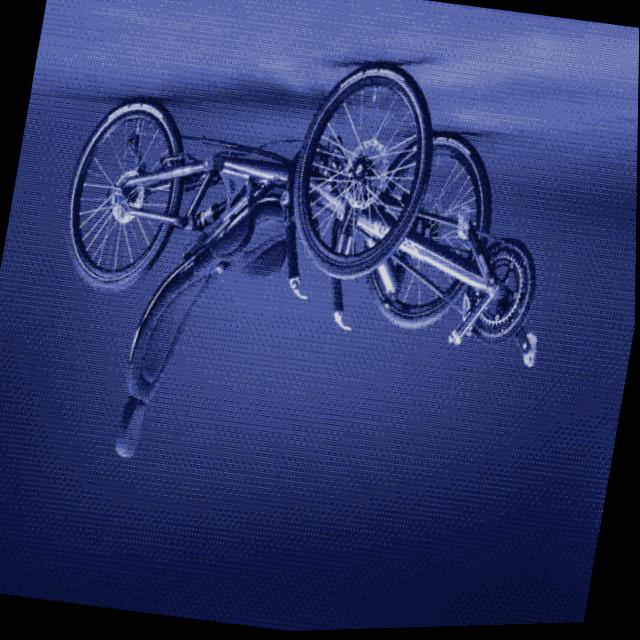recumbent-bike: (22, 13, 584, 524)
